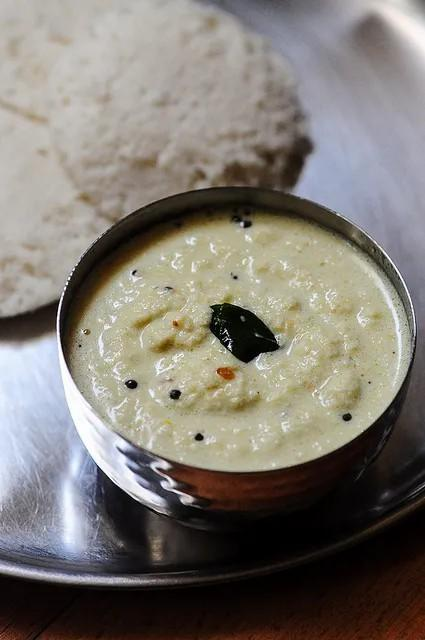CoconutChutney: (72, 211, 405, 468)
